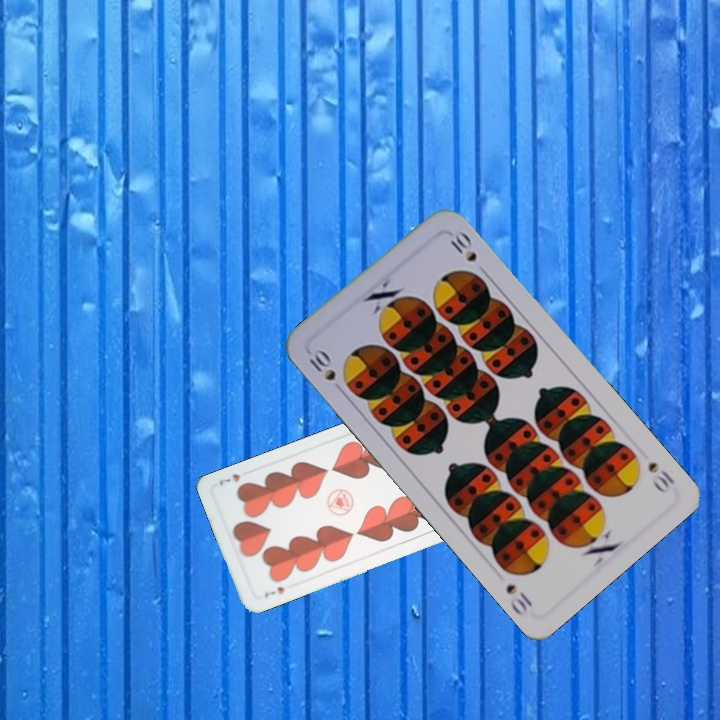H7: (260, 583, 287, 600)
S10: (304, 344, 347, 397), (643, 457, 677, 495)
